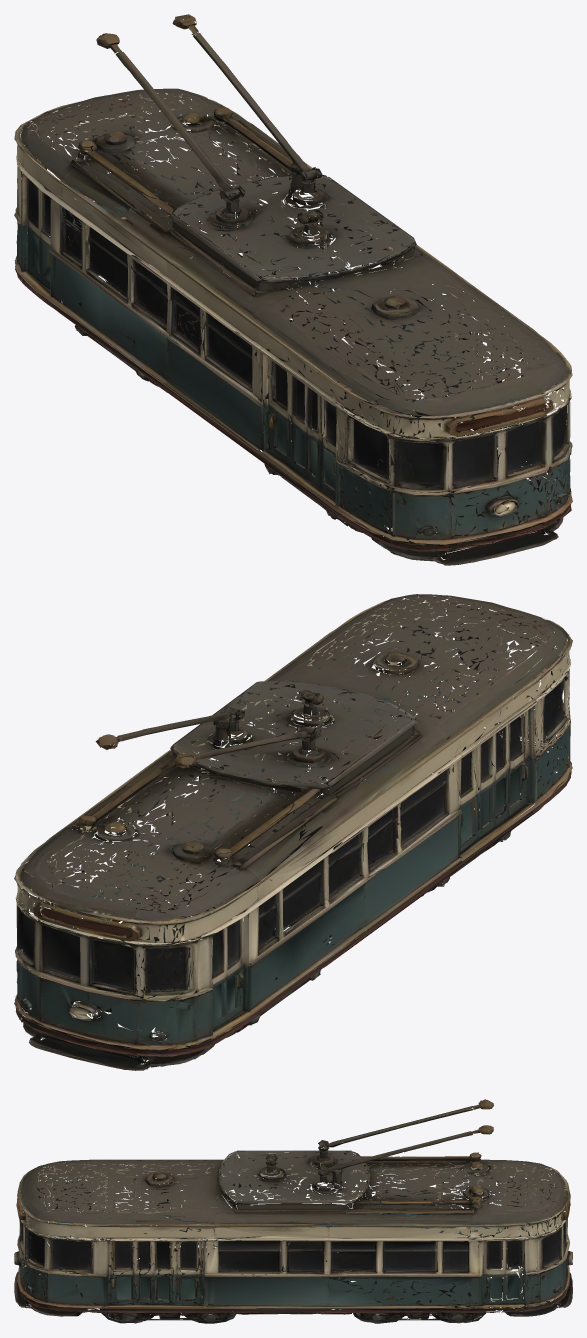
Rendered from municipal_tram_web.glb.
3 views of the same model, one above another, from view 1: azimuth 30°, elevation 25°; view 2: azimuth 150°, elevation 25°; view 3: azimuth 270°, elevation 25° (orthographic). The views are drawn at different scales.
Visible parts, largest first — view 1: municipal_tram; view 2: municipal_tram; view 3: municipal_tram.
Part boxes in pixels (x1,y1,x2,y2): municipal_tram: (14,14,572,565); municipal_tram: (14,594,572,1070); municipal_tram: (14,1099,572,1323).
Size of the model in its own units: 2.5 by 3.36 by 9.
Materials: 1 (1 with a texture image).
